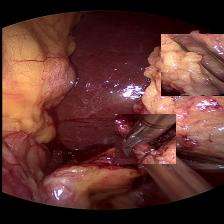Clipper: (114, 114, 175, 164)
Grasper: (160, 34, 224, 96)
